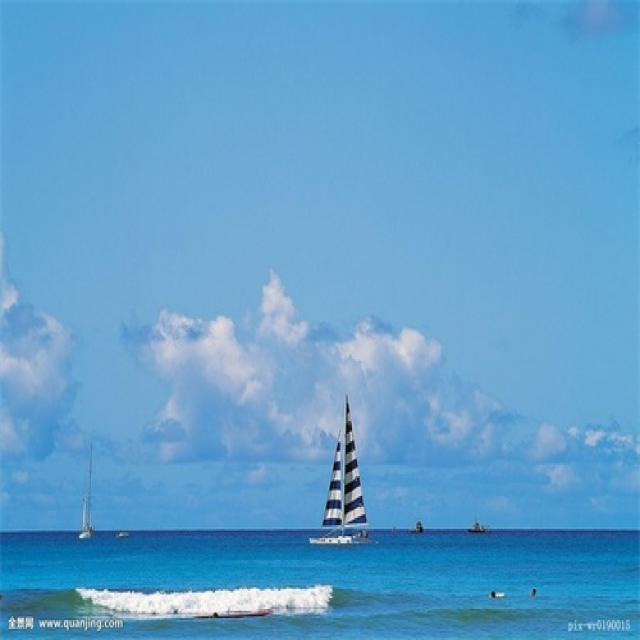Ship: (314, 388, 381, 555), (66, 456, 100, 543)
